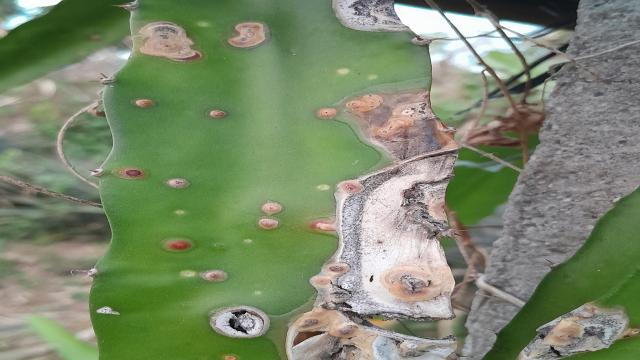stemcanker: (113, 93, 288, 289), (308, 109, 333, 121)
